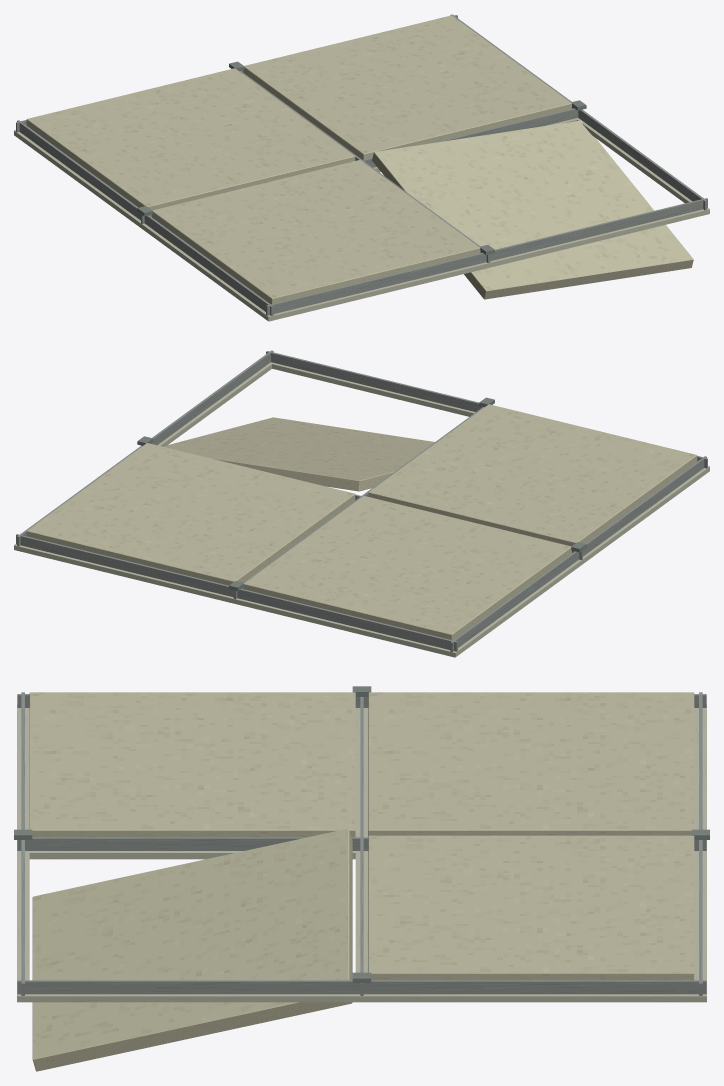
Rendered from suspended_ceiling_crooked_tile.glb.
3 renders of one model, top to bottom at view 1: azimuth 30°, elevation 25°; view 2: azimuth 150°, elevation 25°; view 3: azimuth 270°, elevation 25°, orthographic. The views are drawn at different scales.
Parts seen in each view (by area): view 1: suspended_ceiling_crooked_tile; view 2: suspended_ceiling_crooked_tile; view 3: suspended_ceiling_crooked_tile.
Boxes of the visible parts, x1=… form: suspended_ceiling_crooked_tile: x1=14, y1=14, x2=709, y2=321; suspended_ceiling_crooked_tile: x1=14, y1=350, x2=709, y2=657; suspended_ceiling_crooked_tile: x1=14, y1=686, x2=709, y2=1071.
Bounding box in the file's own units: 1.2 × 0.2109 × 1.21.
4 materials, 4 textured.
